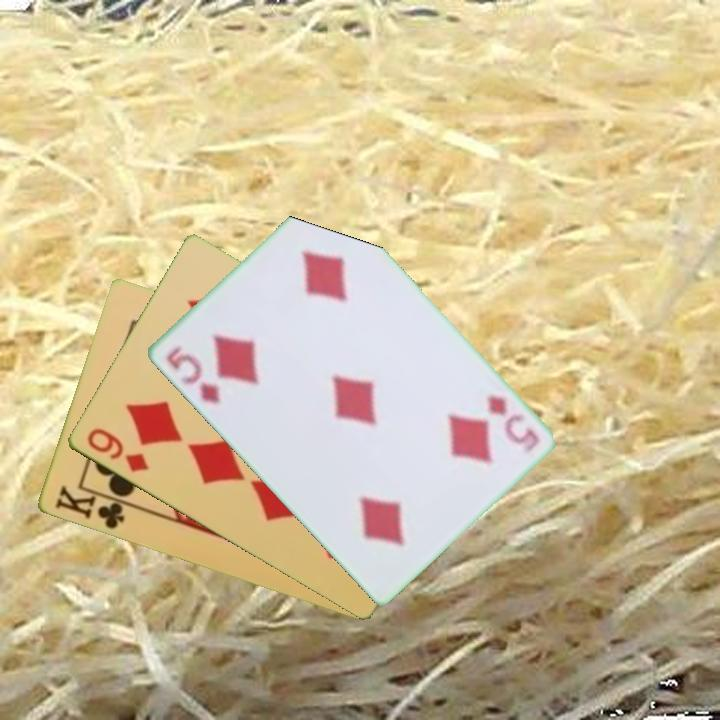5d: (162, 341, 223, 407), (482, 391, 543, 456)
9d: (83, 424, 151, 476)
Kc: (51, 482, 134, 532)
